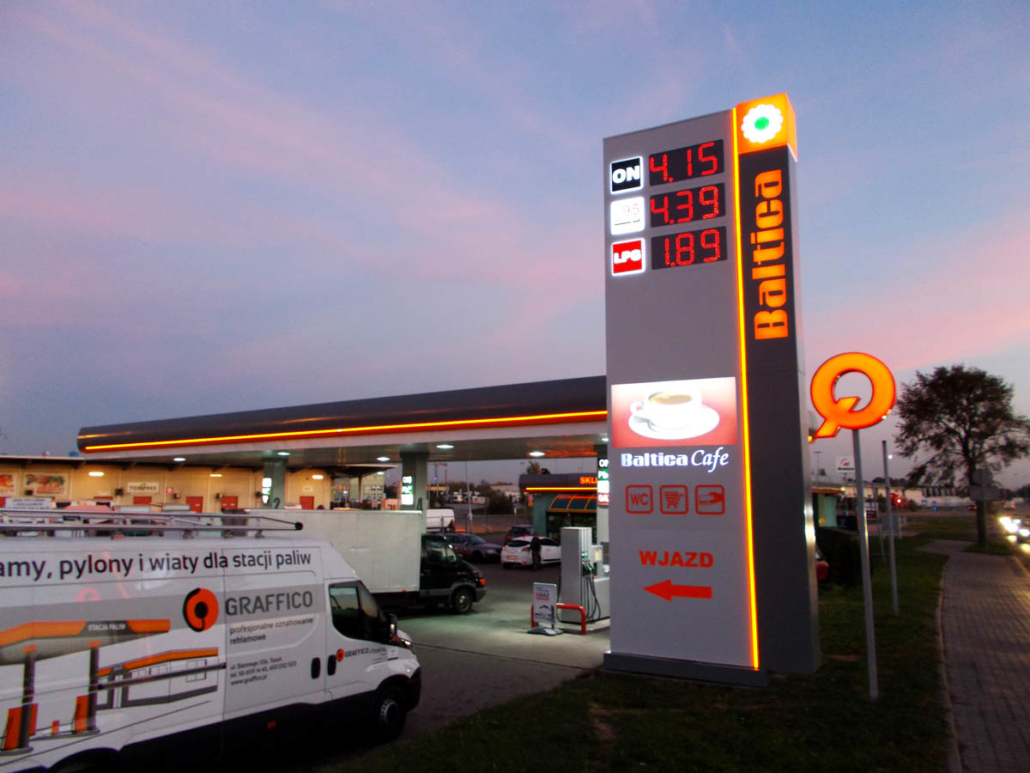LPG: (610, 234, 647, 274)
ON: (604, 154, 648, 195)
